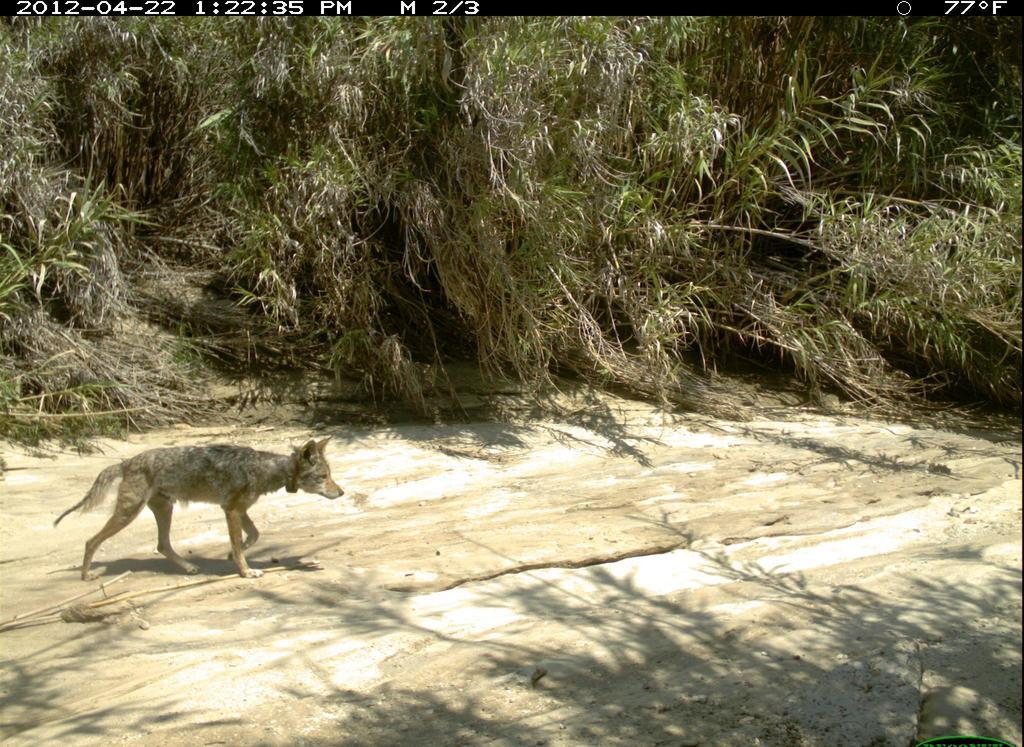coyote: (50, 429, 351, 587)
